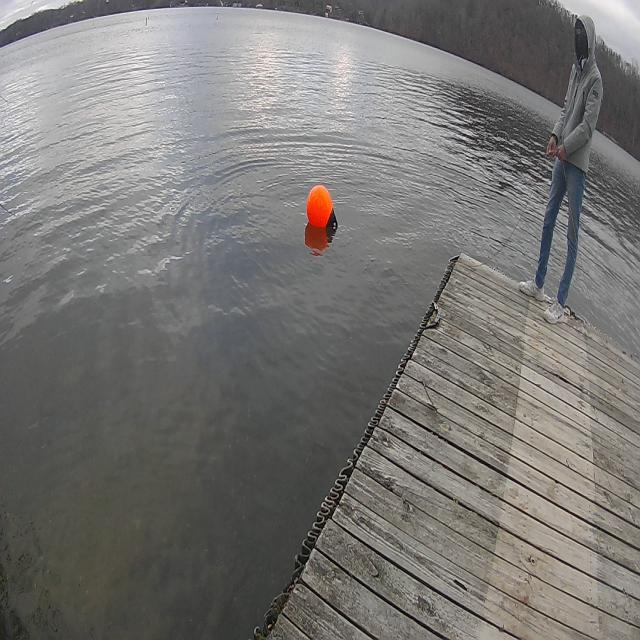Buoy: (304, 180, 344, 247)
